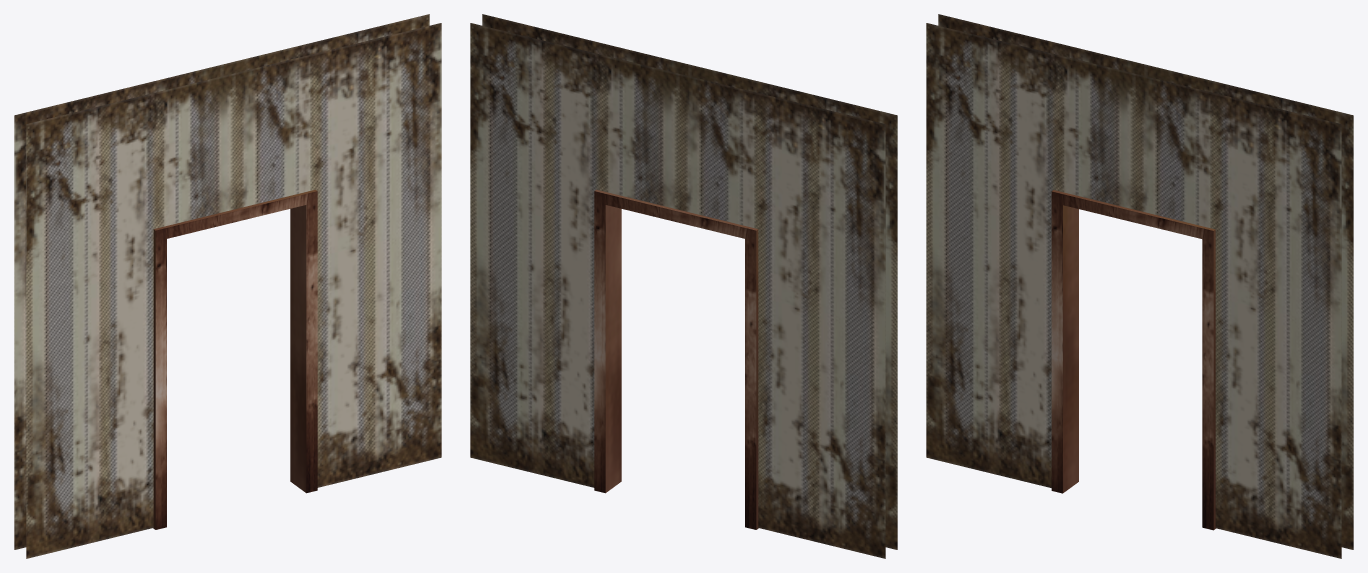
The model's file is wall_white_doorway_2.obj.
3 renders of one model, left to right at view 1: azimuth 30°, elevation 25°; view 2: azimuth 150°, elevation 25°; view 3: azimuth 330°, elevation 25°, orthographic.
Visible parts, largest first — view 1: Doorframe; view 2: Doorframe; view 3: Doorframe.
Part boxes in pixels (x1,y1,x2,y2): Doorframe: (14,14,441,558); Doorframe: (470,14,897,558); Doorframe: (926,14,1353,558).
Bounding box in the file's own units: 3 × 3 × 0.2.
Materials: 2 (2 with a texture image).
